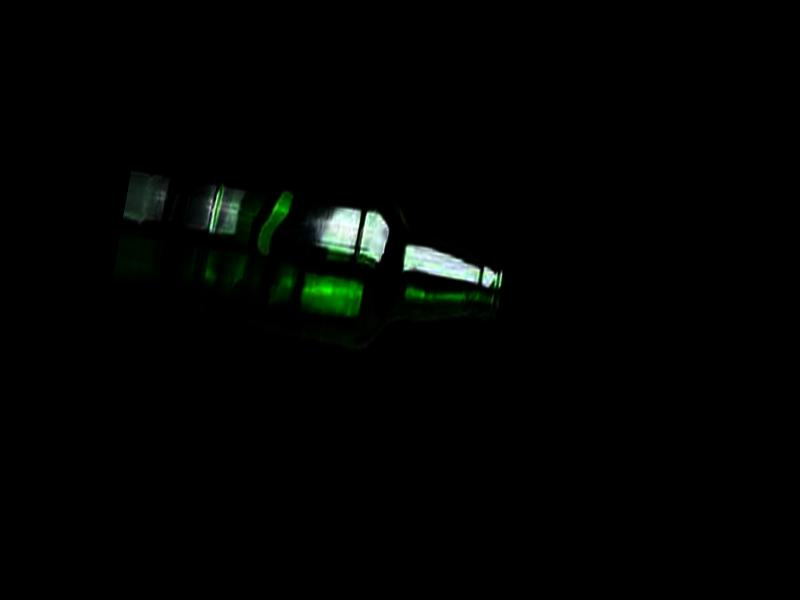Beer: (190, 181, 510, 374)
